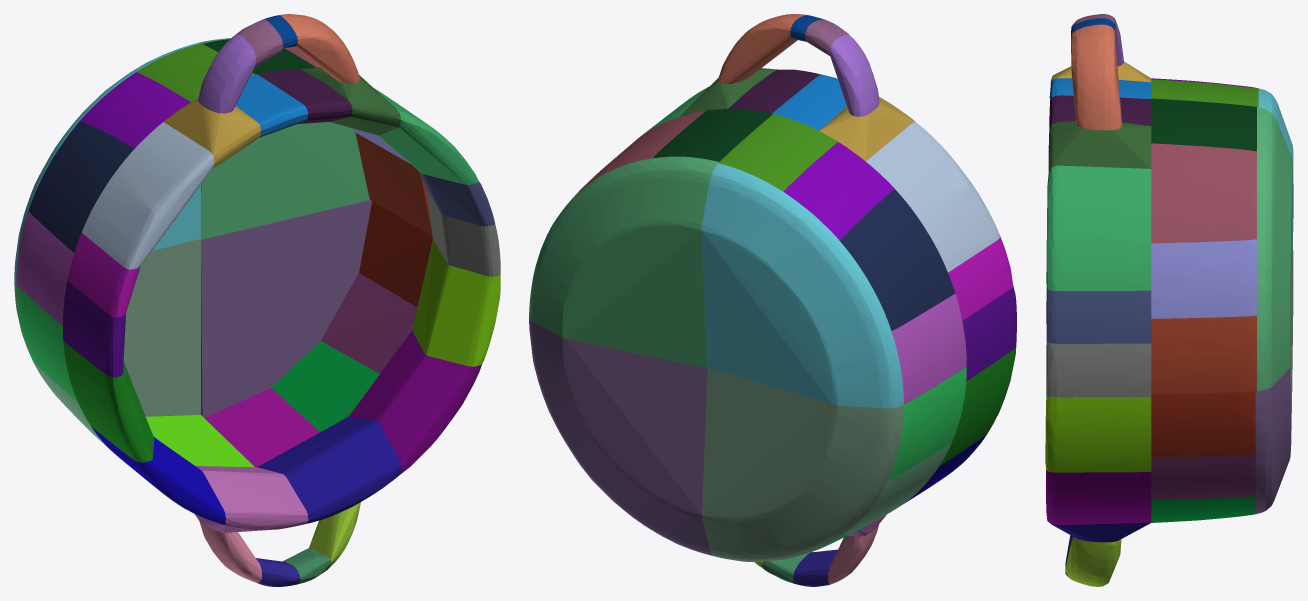
Rendered from coacd_collision.obj.
The picture shows the model from 3 angles, left to right: view 1: azimuth 30°, elevation 25°; view 2: azimuth 150°, elevation 25°; view 3: azimuth 270°, elevation 25°; orthographic projection.
Parts seen in each view (by area): view 1: geometry_1, geometry_3, geometry_0, geometry_6, geometry_11, geometry_20, geometry_4, geometry_21, geometry_28, geometry_33, geometry_7, geometry_8 (+28 smaller); view 2: geometry_2, geometry_3, geometry_0, geometry_1, geometry_6, geometry_21, geometry_32, geometry_38, geometry_30, geometry_36, geometry_25, geometry_8 (+15 smaller); view 3: geometry_10, geometry_13, geometry_3, geometry_12, geometry_4, geometry_31, geometry_15, geometry_35, geometry_16, geometry_11, geometry_25, geometry_9 (+12 smaller).
Boxes of the visible parts, <box> form: geometry_1: <box>201,199,371,417</box>; geometry_3: <box>198,38,369,239</box>; geometry_0: <box>14,239,200,416</box>; geometry_6: <box>81,122,214,269</box>; geometry_11: <box>349,330,481,472</box>; geometry_20: <box>257,416,401,523</box>; geometry_4: <box>412,240,500,366</box>; geometry_21: <box>28,121,133,252</box>; geometry_28: <box>321,273,417,373</box>; geometry_33: <box>271,341,379,432</box>; geometry_7: <box>195,466,308,532</box>; geometry_8: <box>63,341,154,462</box>; geometry_2: <box>701,163,903,408</box>; geometry_3: <box>529,156,719,368</box>; geometry_0: <box>702,367,903,561</box>; geometry_1: <box>529,317,712,555</box>; geometry_6: <box>866,122,1000,272</box>; geometry_21: <box>840,189,955,330</box>; geometry_32: <box>783,142,894,240</box>; geometry_38: <box>891,293,966,404</box>; geometry_30: <box>719,114,837,191</box>; geometry_36: <box>888,367,966,480</box>; geometry_25: <box>653,109,772,161</box>; geometry_8: <box>939,346,1016,466</box>; geometry_10: <box>1046,165,1151,290</box>; geometry_13: <box>1151,143,1256,243</box>; geometry_3: <box>1257,107,1292,390</box>; geometry_12: <box>1151,239,1256,318</box>; geometry_4: <box>1045,395,1151,472</box>; geometry_31: <box>1151,315,1256,393</box>; geometry_15: <box>1151,391,1255,457</box>; geometry_35: <box>1046,342,1151,397</box>; geometry_16: <box>1046,287,1151,343</box>; geometry_11: <box>1046,469,1151,524</box>; geometry_25: <box>1151,98,1256,151</box>; geometry_9: <box>1071,24,1122,130</box>.
Size of the model in its own units: 147 by 202 by 82.09.
